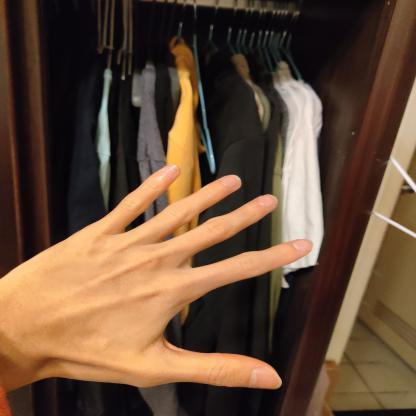bare_hand: (0, 152, 316, 404)
